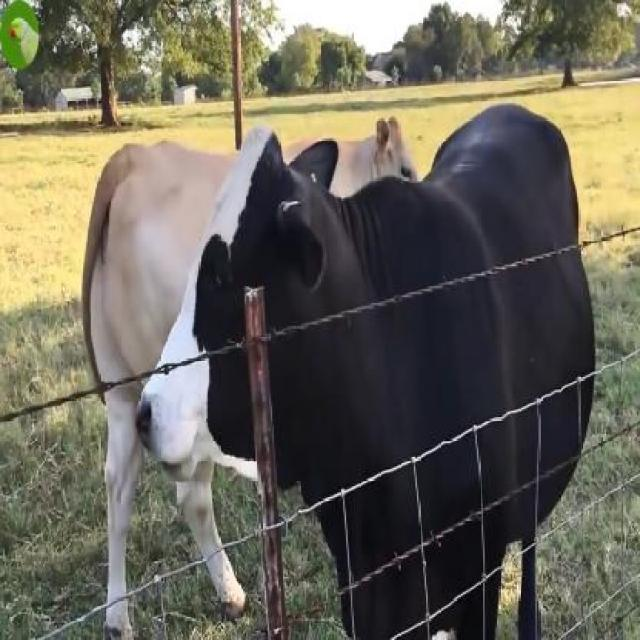Cow: (137, 106, 595, 639)
